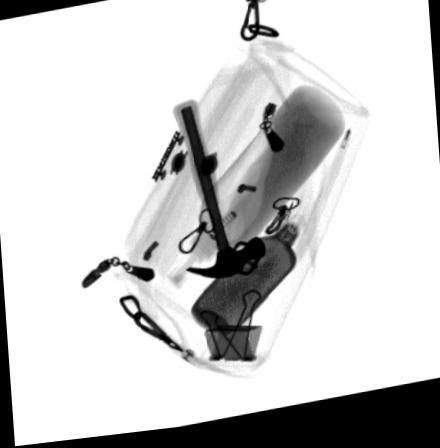Hammer: (172, 101, 266, 283)
